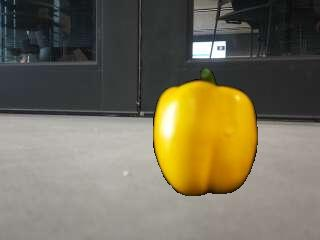Capsicum: (152, 69, 260, 197)
